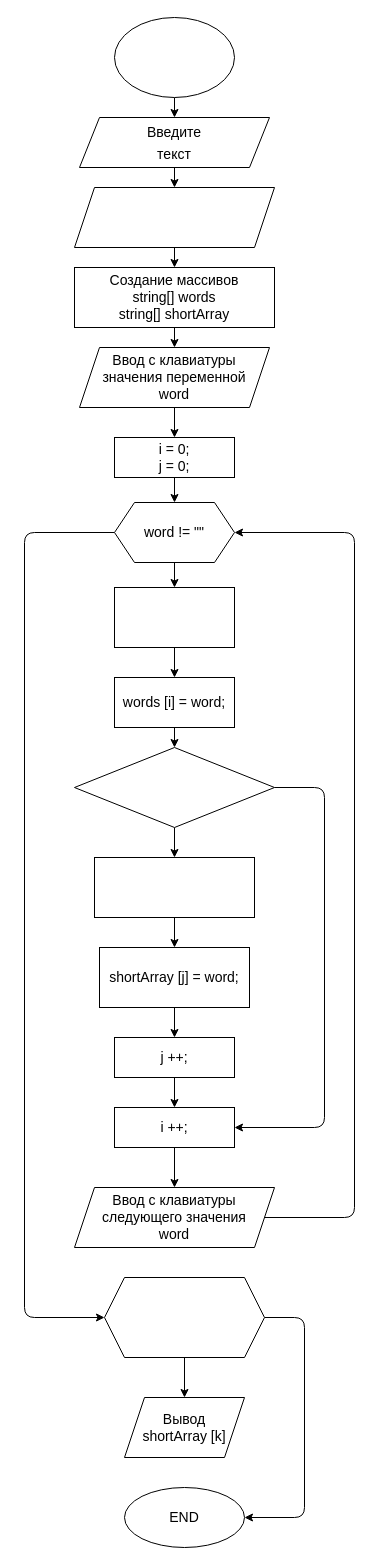
Some shapes in this 380 by 1565 pixel diagram are drawn without their labels. The shapes that lost their labels are listed below. From the top down, each one's box as (x1, y1, x2, y2) in pixels, then its label:
(114, 16, 234, 98): Start
(74, 186, 274, 248): Для завершения ввода нажмите Enter
(114, 586, 234, 648): Увеличение words.Length + 1;
(74, 746, 274, 828): word.Length <= 3;
(94, 856, 254, 918): Увеличение shortArray.Length + 1;
(104, 1276, 264, 1358): k = 0; k < shortArray.Length; k++
